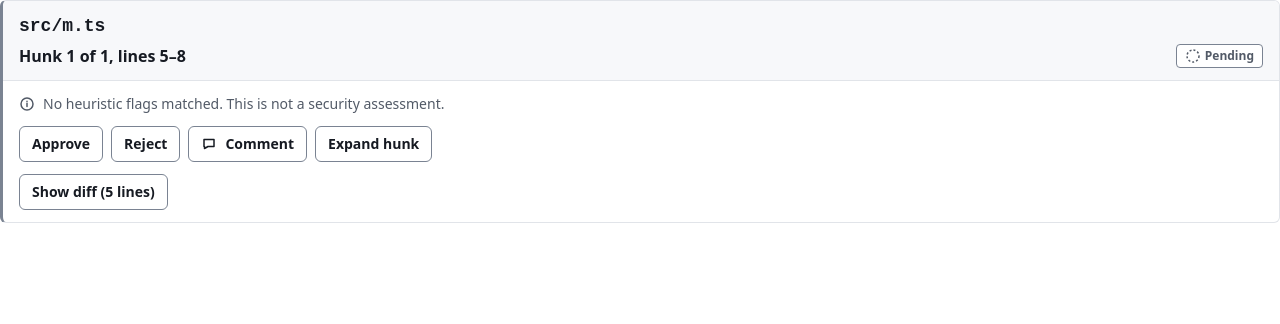
Scenario: HUNK-FOLD a folded diff opens behind Show diff › HUNK-SHOW-DIFF replaces a folded table with a button that opens it and focuses the first row
The image size is (1280, 324).
What coordinates should you click on to do the following:
click the button "Show diff (5 lines)"
I would click on:
 (93, 192)
Its box is [19,174,168,210].
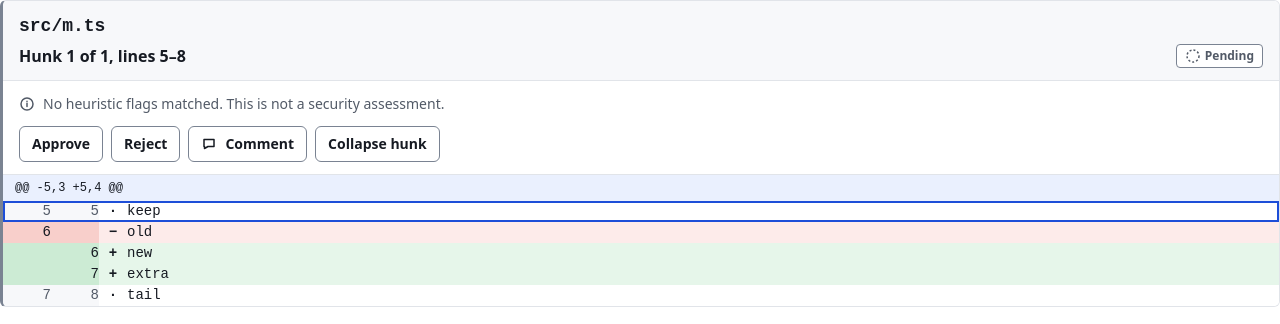
Check: the table is shown, box [3,174,1279,306]
Check: the button "Show diff" is gone
